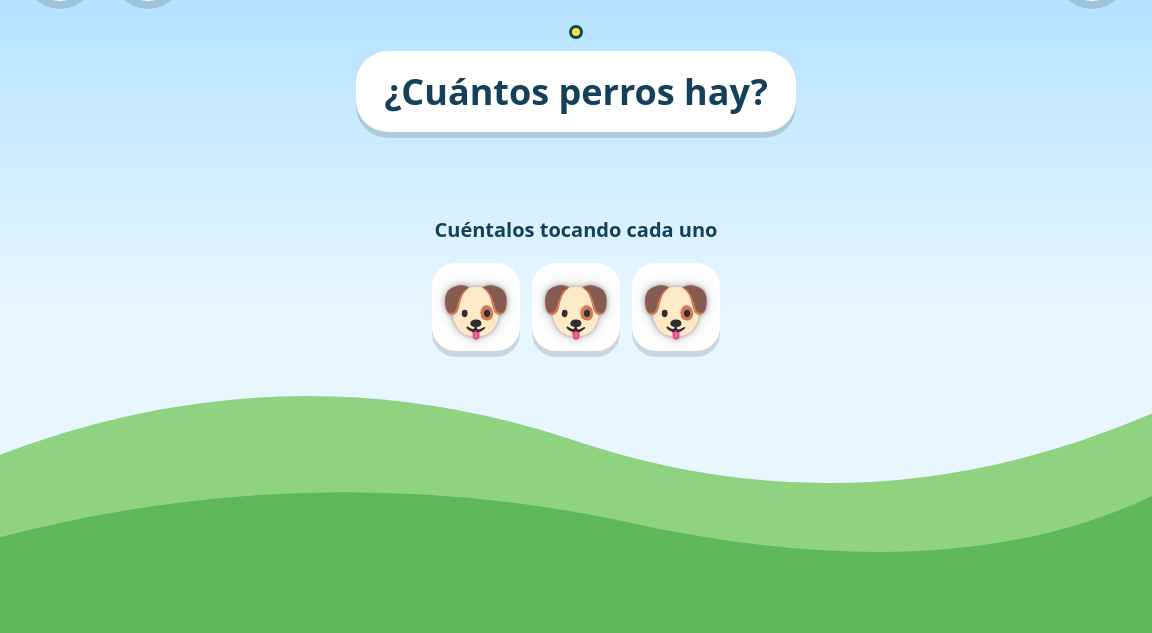
Test: Practice: ejercicios de elegir › contar tocando › tras contar, elegir la cifra correcta felicita y la equivocada anima a intentarlo otra vez
What coordinates should you click on to do the following:
click the button named "Contar"
I would click on:
 (476, 307)
Its box is 432,263 -> 520,351.
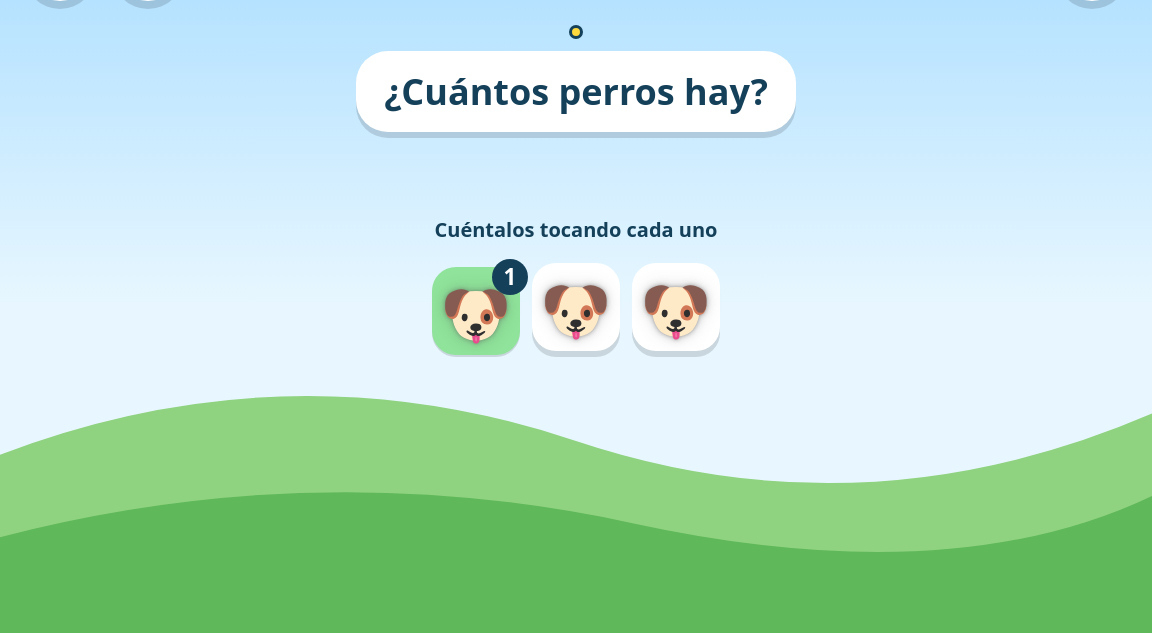
What coordinates should you click on to do the following:
click the button named "Contar"
I would click on:
 (576, 307)
Its box is 532,263 -> 620,351.
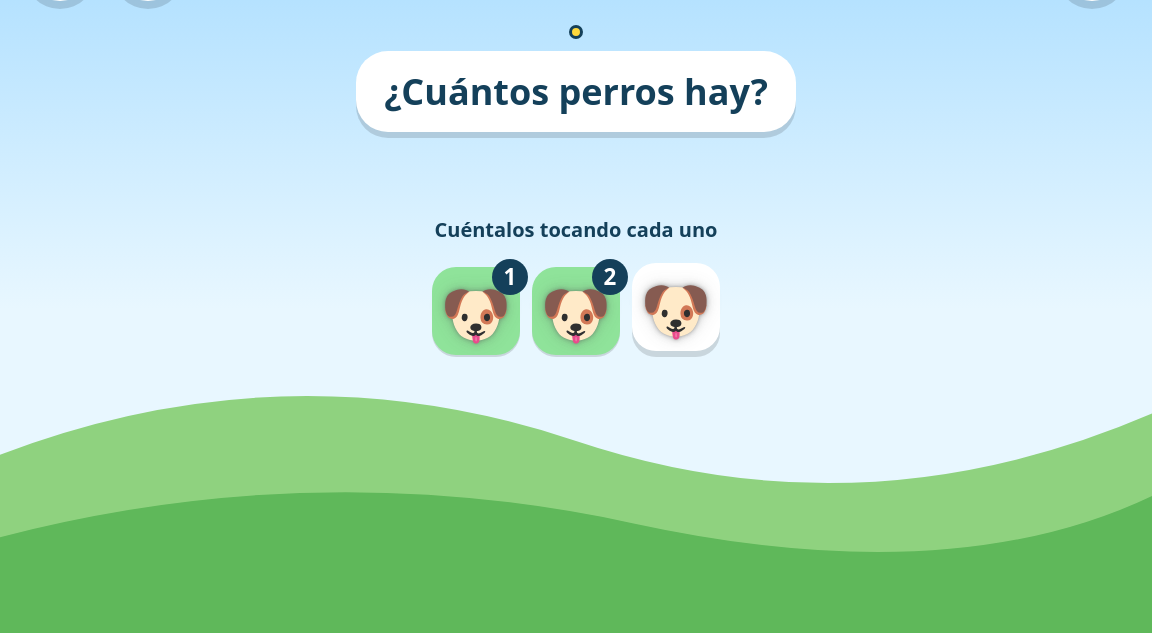
What coordinates should you click on to do the following:
click the button named "Contar"
I would click on:
 (676, 307)
Its box is 632,263 -> 720,351.
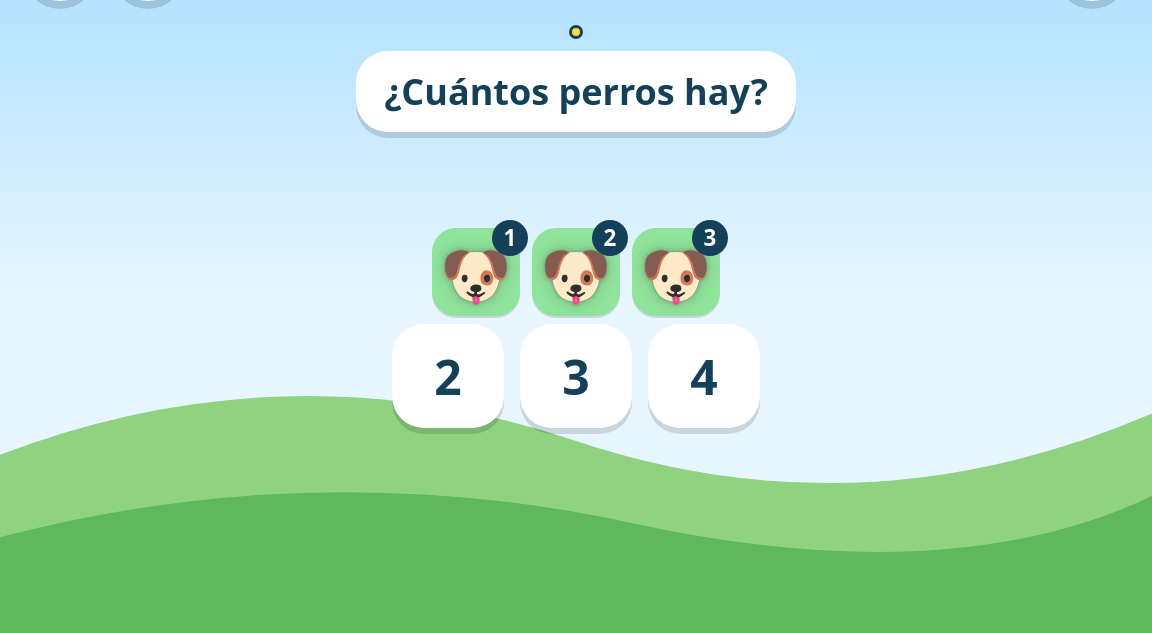
What coordinates should you click on to do the following:
click the button "2"
I would click on:
 (448, 376)
Its box is 392,324 -> 504,428.
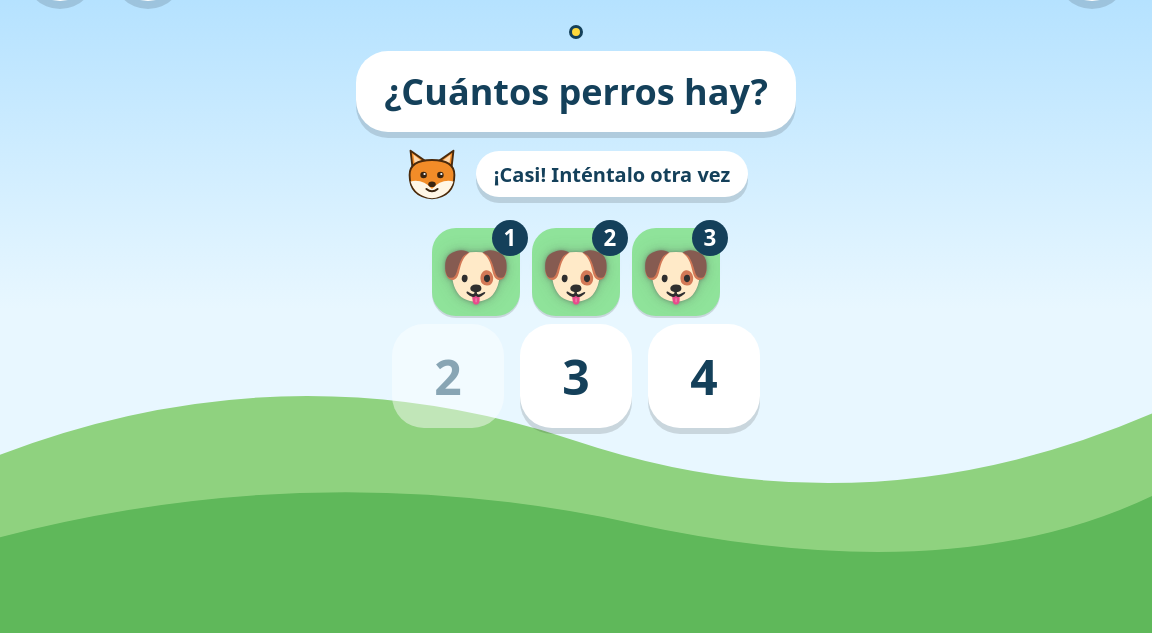
Check: the text "¡Casi! Inténtalo otra vez" is shown, box 476,151 -> 748,198
What coordinates should you click on to do the following:
click the button "3"
I would click on:
 (576, 376)
Its box is 520,324 -> 632,428.
(page scrolled)
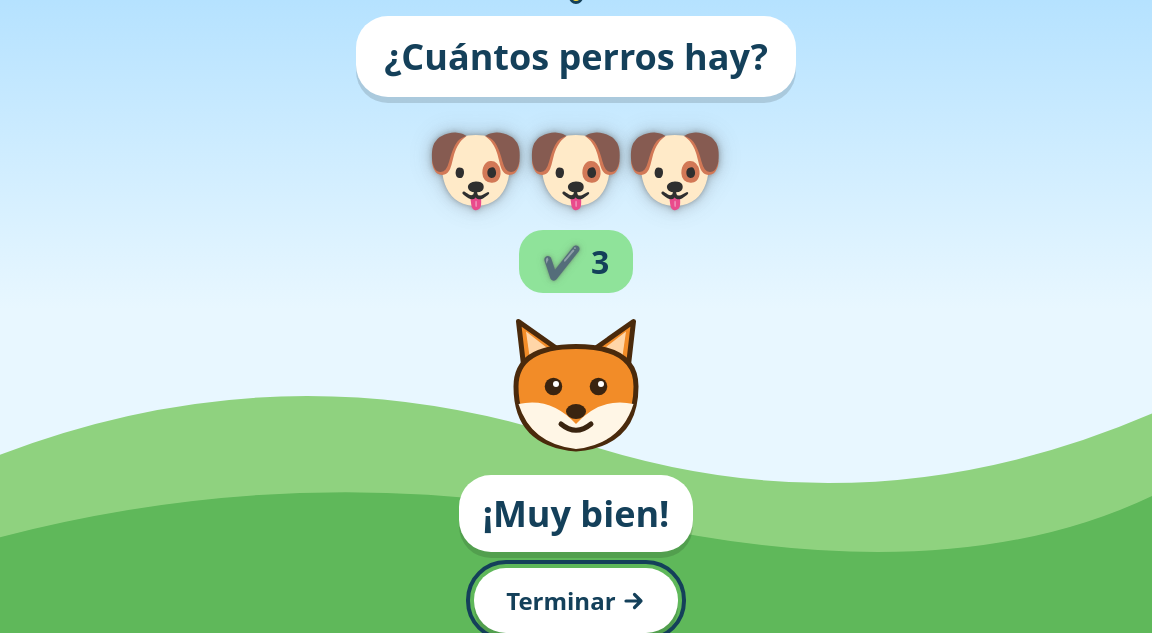
Check: the text "¡Muy bien!" is shown, box 459,475 -> 693,552
